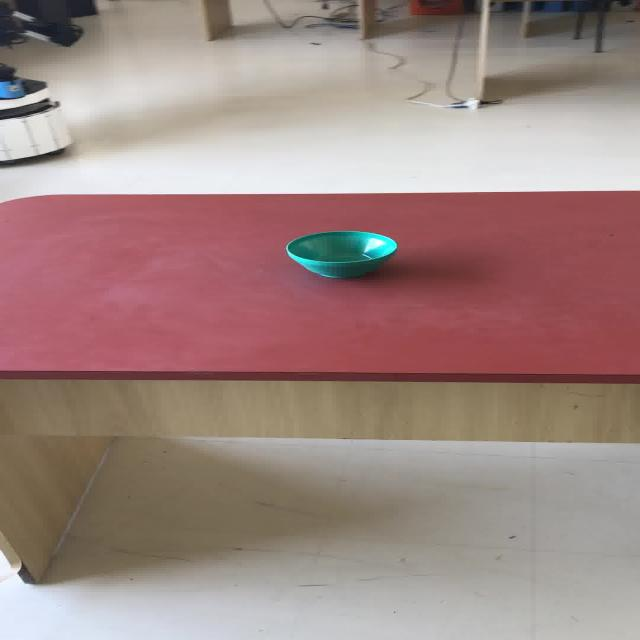bowl: (283, 229, 397, 278)
